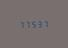five: (30, 20, 35, 27)
seven: (18, 20, 23, 28), (24, 20, 29, 28), (42, 19, 47, 27)
three: (36, 19, 41, 27)
